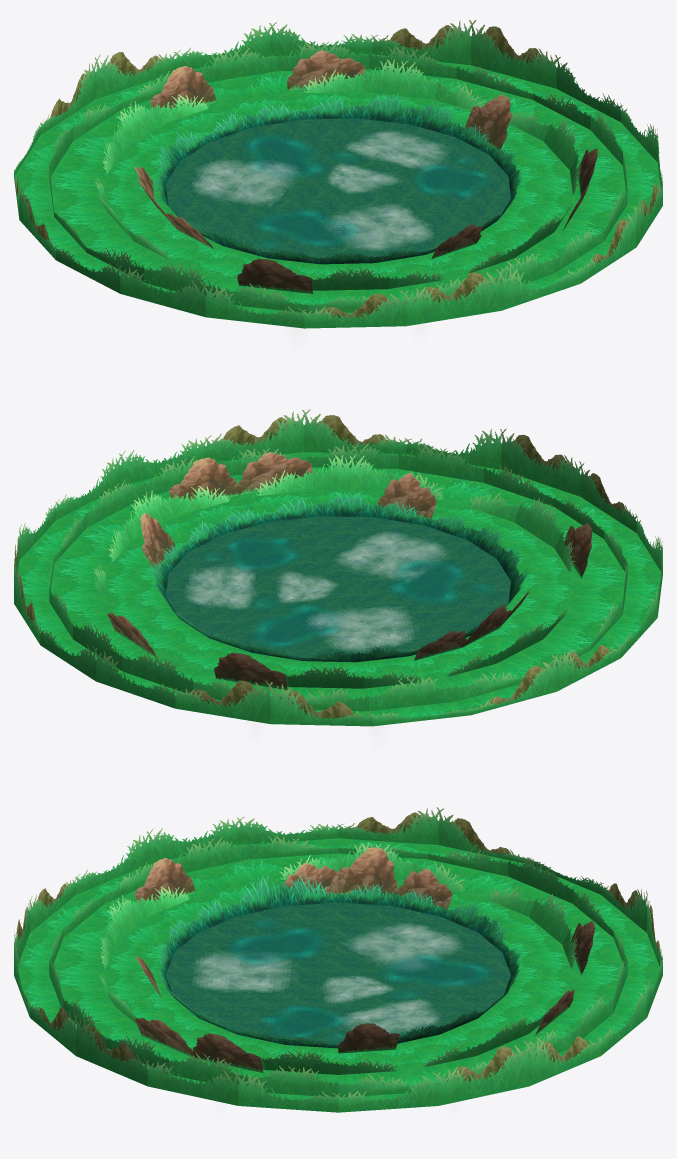
The model's file is planes.glb.
The picture shows the model from 3 angles, top to bottom: view 1: azimuth 30°, elevation 25°; view 2: azimuth 150°, elevation 25°; view 3: azimuth 270°, elevation 25°; orthographic projection.
Visible parts, largest first — view 1: btl_G_eg04_OptMesh, btl_G_eg05_OptMesh, pCylinder365, btl_G_eg06_OptMesh, btl_G_all_snow0m_OptMesh, btl_G_eg07_OptMesh, btl_G_kusa_iwa01_OptMesh, btl_G_all_rain0m_OptMesh; view 2: btl_G_eg04_OptMesh, pCylinder365, btl_G_eg05_OptMesh, btl_G_eg06_OptMesh, btl_G_kusa_iwa01_OptMesh, btl_G_all_snow0m_OptMesh, btl_G_eg07_OptMesh, btl_G_all_rain0m_OptMesh; view 3: btl_G_eg04_OptMesh, pCylinder365, btl_G_eg05_OptMesh, btl_G_eg06_OptMesh, btl_G_kusa_iwa01_OptMesh, btl_G_eg07_OptMesh, btl_G_all_snow0m_OptMesh, btl_G_all_rain0m_OptMesh.
Boxes of the visible parts, x1,y1,x2,y2 form: btl_G_eg04_OptMesh: (14,54,660,316); btl_G_eg05_OptMesh: (14,22,662,328); pCylinder365: (166,118,510,258); btl_G_eg06_OptMesh: (14,20,662,328); btl_G_all_snow0m_OptMesh: (192,131,444,250); btl_G_eg07_OptMesh: (154,93,521,264); btl_G_kusa_iwa01_OptMesh: (134,50,597,293); btl_G_all_rain0m_OptMesh: (243,133,492,248); btl_G_eg04_OptMesh: (18,452,660,718); pCylinder365: (166,516,510,657); btl_G_eg05_OptMesh: (19,428,662,726); btl_G_eg06_OptMesh: (14,409,636,726); btl_G_kusa_iwa01_OptMesh: (107,452,592,689); btl_G_all_snow0m_OptMesh: (187,532,445,650); btl_G_eg07_OptMesh: (150,492,528,662); btl_G_all_rain0m_OptMesh: (203,536,494,648); btl_G_eg04_OptMesh: (18,838,659,1100); pCylinder365: (166,902,510,1044); btl_G_eg05_OptMesh: (14,816,662,1112); btl_G_eg06_OptMesh: (14,807,662,1105); btl_G_kusa_iwa01_OptMesh: (134,847,594,1072); btl_G_eg07_OptMesh: (158,874,520,1048); btl_G_all_snow0m_OptMesh: (196,924,460,1033); btl_G_all_rain0m_OptMesh: (227,918,494,1040).
Bounding box in the file's own units: 3551 × 1007 × 3551.
Materials: 9 (9 with a texture image).
